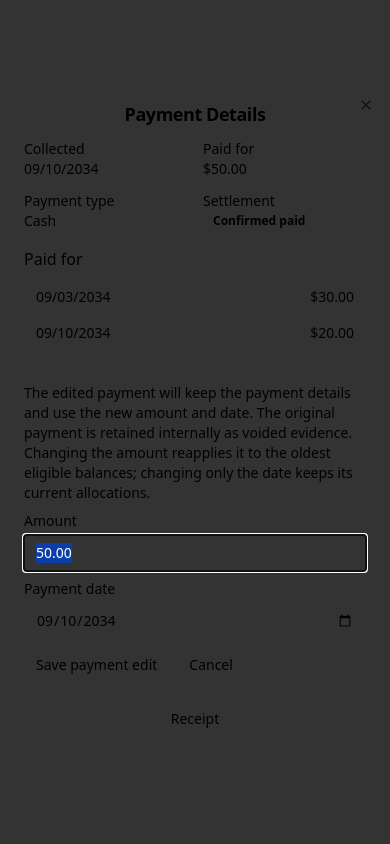
Test: PaymentDetailsDialog › does not reopen the initial edit form after cancel
Expected: the button "Save payment edit" is shown, 24,647 -> 169,683
Click the button "Cancel" at (211, 665), box 177,647 -> 245,683
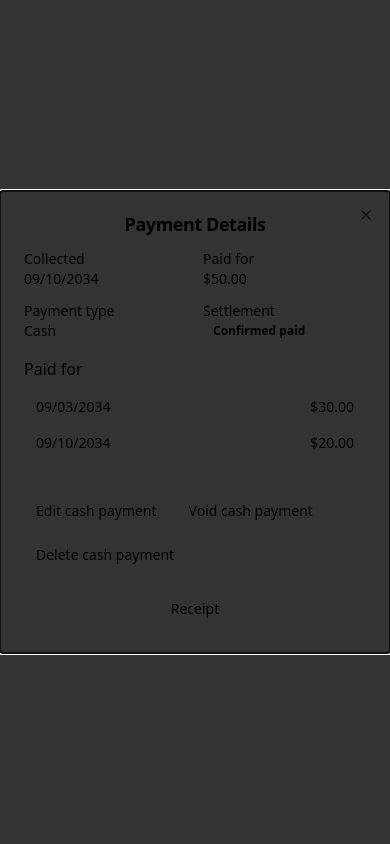
Expected: the button "Save payment edit" is gone
Expected: the button "Edit cash payment" is shown, 24,493 -> 169,529
